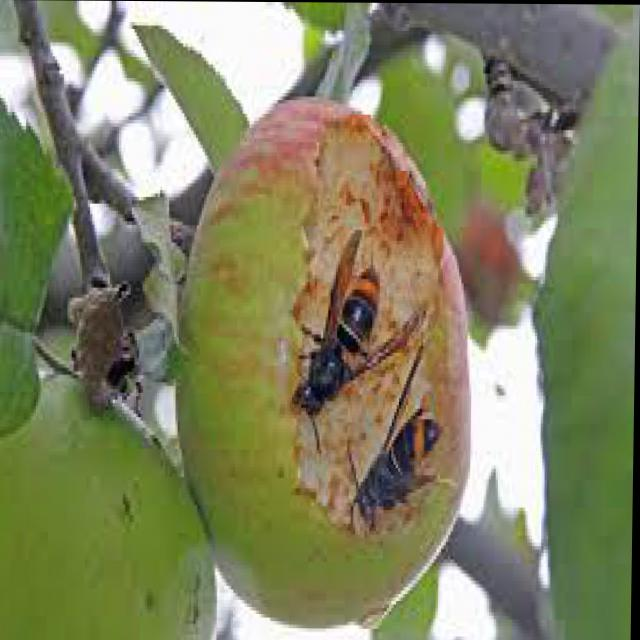Vespa Velutina: (293, 224, 424, 425), (348, 377, 441, 542)
